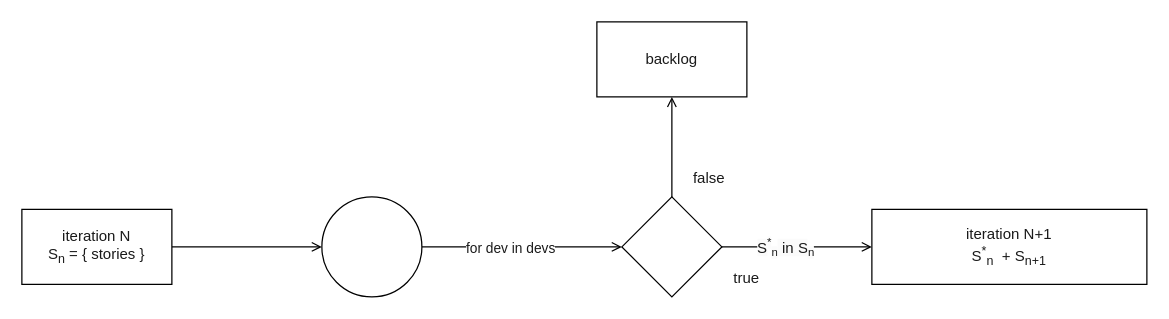
This 1169x319 diagram has some shape labels left out. Each missing label, with the centre of its shape:
"clean previous sprint" belongs at [371,246].
"move to next iteration?" belongs at [671,246].
